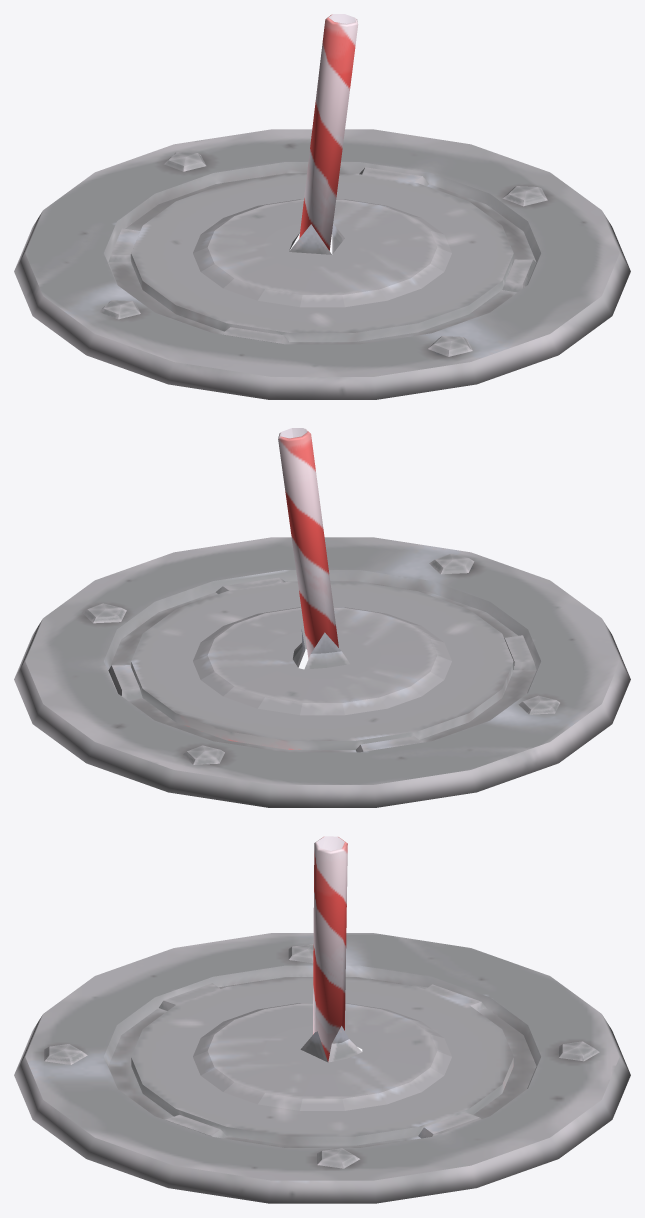
File: drinkLid.glb
The picture shows the model from 3 angles, top to bottom: view 1: azimuth 30°, elevation 25°; view 2: azimuth 150°, elevation 25°; view 3: azimuth 270°, elevation 25°; orthographic projection.
Parts seen in each view (by area): view 1: Hat_DrinkLid; view 2: Hat_DrinkLid; view 3: Hat_DrinkLid.
Boxes of the visible parts, left/top/right/bottom form: Hat_DrinkLid: left=14, top=14, right=630, bottom=399; Hat_DrinkLid: left=14, top=428, right=630, bottom=807; Hat_DrinkLid: left=14, top=836, right=630, bottom=1203.
Bounding box in the file's own units: 1.64 × 0.7674 × 1.66.
1 material, 1 textured.
